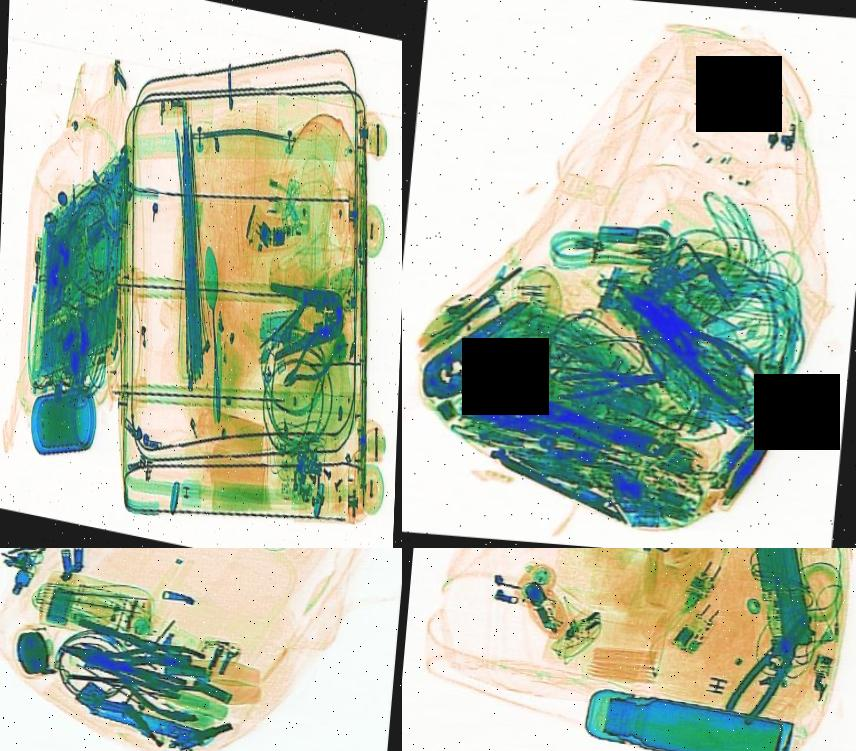Pliers: (605, 270, 783, 420), (403, 286, 557, 428), (50, 606, 210, 728), (720, 596, 822, 734), (262, 262, 352, 374), (272, 312, 344, 409), (550, 354, 660, 406)
Wrench: (470, 363, 674, 474)
